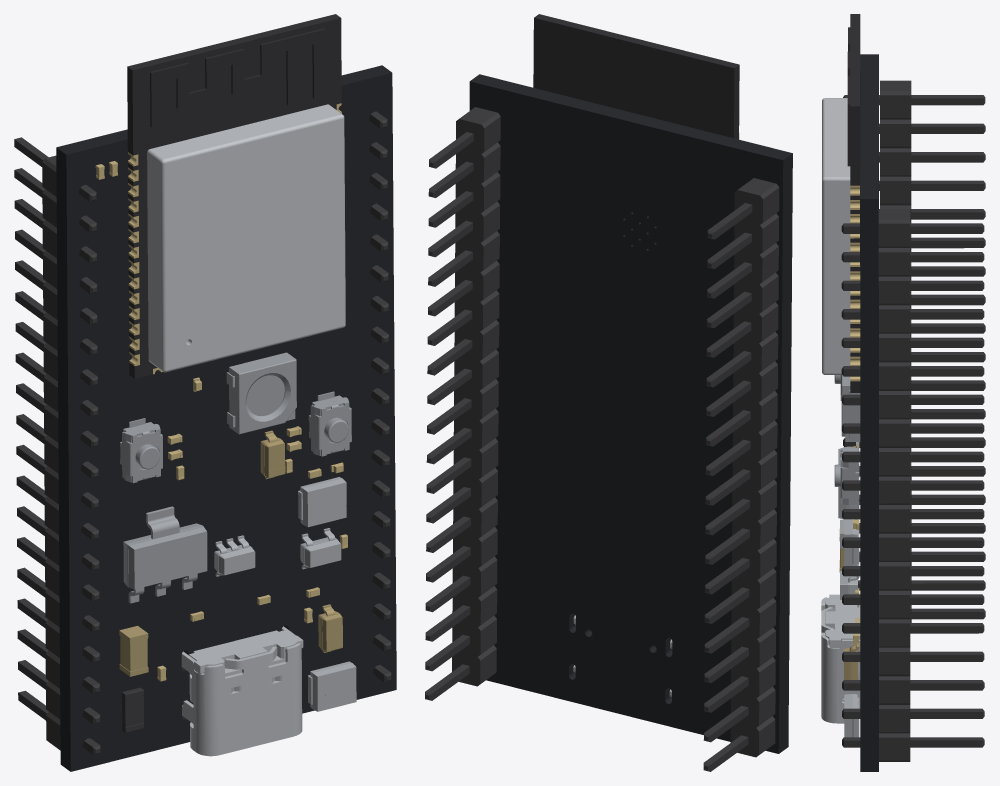
The model's file is forgeboard_beginner_named.glb.
3 views of the same model, side by side, from view 1: azimuth 30°, elevation 25°; view 2: azimuth 150°, elevation 25°; view 3: azimuth 270°, elevation 25° (orthographic). The views are drawn at different scales.
Parts seen in each view (by area): view 1: pcb, processor, pin_headers, usb_c_port, buttons, usbc, usbc_004, header_pins, caps, usbc_003, usbc_002, ic_small; view 2: pcb, pin_headers, processor; view 3: pin_headers, pcb, processor, usb_c_port, buttons, usbc_003, header_pins, usbc_004, caps.
Boxes of the visible parts, x1,y1,x2,y2 form: pcb: (56,65,396,771); processor: (127,14,345,378); pin_headers: (14,111,391,755); usb_c_port: (181,626,303,756); buttons: (214,477,356,711); usbc: (123,506,207,603); usbc_004: (226,352,296,434); header_pins: (95,152,347,681); caps: (119,430,342,676); usbc_003: (308,391,351,456); usbc_002: (120,418,162,483); ic_small: (121,687,143,732); pcb: (469,74,792,753); pin_headers: (425,107,779,771); processor: (533,14,739,139); pin_headers: (841,80,985,761); pcb: (860,54,878,771); processor: (822,14,860,392); usb_c_port: (821,594,860,723); buttons: (840,519,859,737); usbc_003: (834,445,859,506); header_pins: (850,271,860,645); usbc_004: (841,375,860,441); caps: (839,444,859,679).
Bounding box in the file's own units: 28.52 × 57.19 × 13.3.
